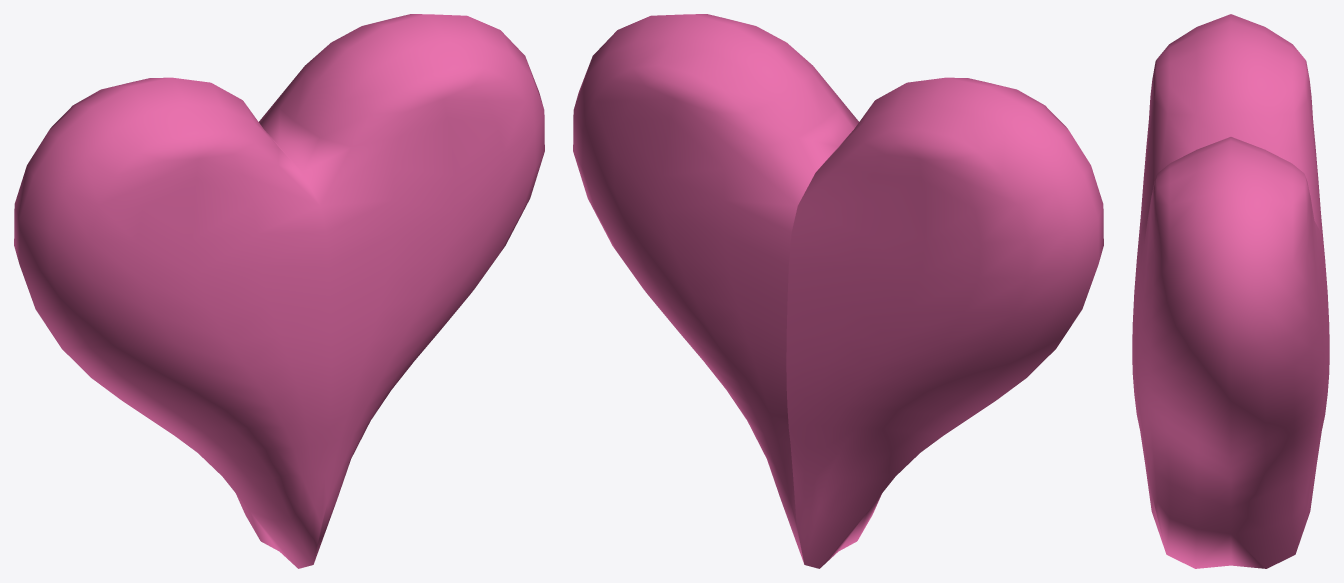
The model's file is Heart.fbx.
3 renders of one model, left to right at view 1: azimuth 30°, elevation 25°; view 2: azimuth 150°, elevation 25°; view 3: azimuth 270°, elevation 25°, orthographic. The views are drawn at different scales.
Parts seen in each view (by area): view 1: polySurface12; view 2: polySurface12; view 3: polySurface12.
Part boxes in pixels (x1=…): polySurface12: x1=14, y1=14, x2=544, y2=568; polySurface12: x1=573, y1=14, x2=1103, y2=568; polySurface12: x1=1132, y1=14, x2=1329, y2=568.
Bounding box in the file's own units: 9.71 × 9 × 3.37.
